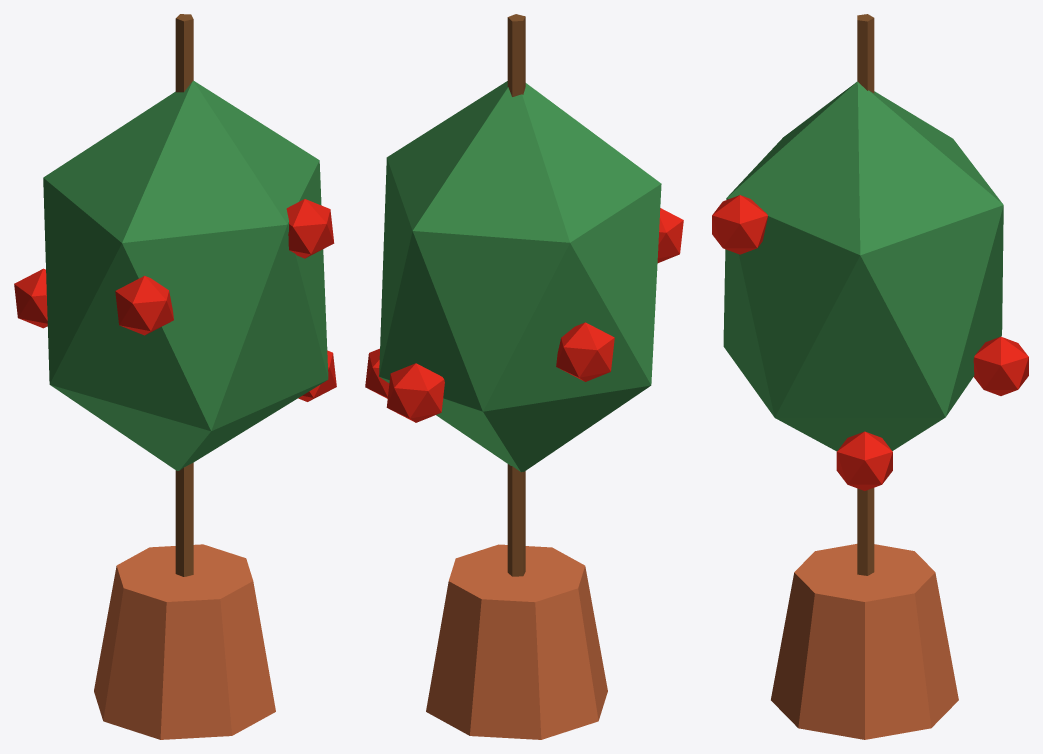
The model's file is hydro_tomato_plant.glb.
The picture shows the model from 3 angles, left to right: view 1: azimuth 30°, elevation 25°; view 2: azimuth 150°, elevation 25°; view 3: azimuth 270°, elevation 25°; orthographic projection.
Visible parts, largest first — view 1: tomato_plant; view 2: tomato_plant; view 3: tomato_plant.
Part boxes in pixels (x1,y1,x2,y2): tomato_plant: (14,14,336,739); tomato_plant: (365,14,683,739); tomato_plant: (712,14,1028,739).
Size of the model in its own units: 0.6929 by 1.6 by 0.6732.
